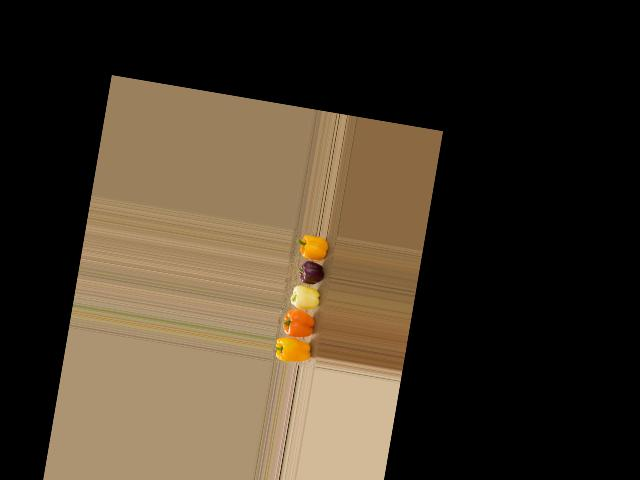bell_pepper: (293, 230, 335, 260)
